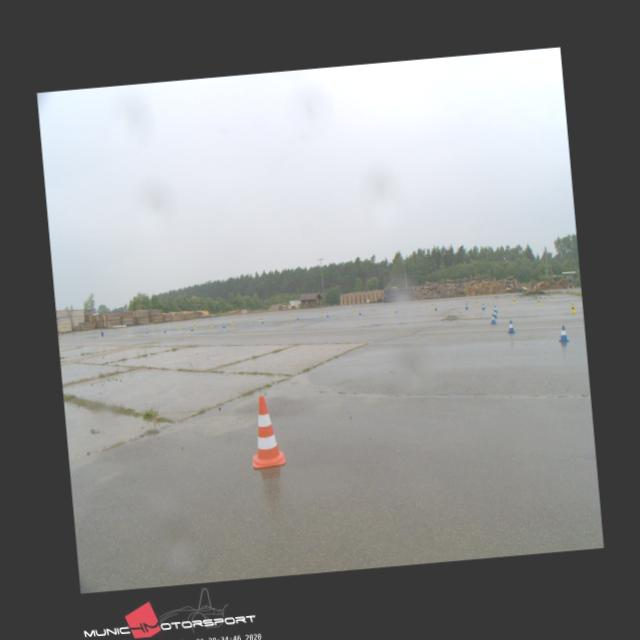blue_cone: (558, 325, 568, 341), (506, 318, 514, 332), (489, 312, 496, 324), (492, 304, 498, 312), (492, 310, 497, 318), (464, 302, 469, 309), (481, 302, 485, 310), (296, 314, 300, 320), (222, 322, 226, 328), (394, 307, 398, 312), (189, 326, 193, 331), (434, 304, 437, 310), (261, 318, 264, 324), (358, 309, 361, 314), (162, 328, 165, 332), (145, 328, 148, 332), (326, 312, 328, 317), (100, 328, 102, 332)
large_orange_cone: (246, 394, 285, 467)
yellow_cone: (570, 304, 576, 312), (570, 300, 574, 308), (536, 298, 540, 304), (512, 298, 516, 304), (230, 319, 234, 324), (258, 316, 261, 322), (431, 302, 434, 307), (290, 313, 293, 318), (475, 300, 478, 304), (390, 304, 392, 310), (353, 308, 356, 312), (193, 323, 196, 327), (177, 324, 180, 328), (322, 310, 324, 315), (210, 322, 212, 326), (123, 326, 125, 330)
